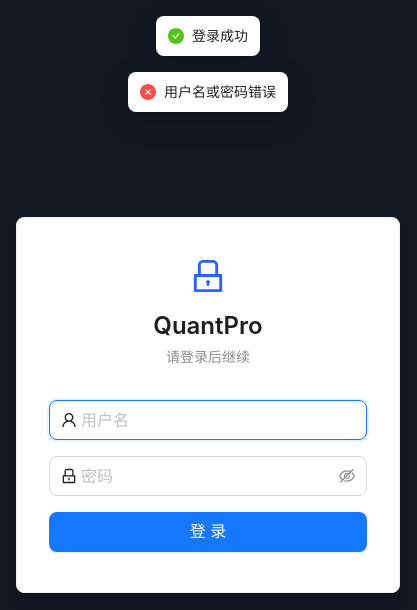
Test: Login 页 › 账号被禁用：提示「账号已被禁用，请联系管理员」
Check: the button with test id "login-submit" is shown, box [49,512,367,552]
In the field with test id "login-username": (218, 420) [81,408,355,432], type "bob"
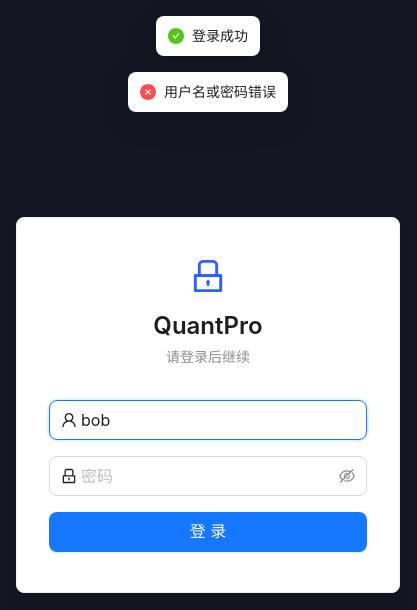
In the password field with test id "login-password": (208, 476) [81,464,335,488], type "secret-pwd"
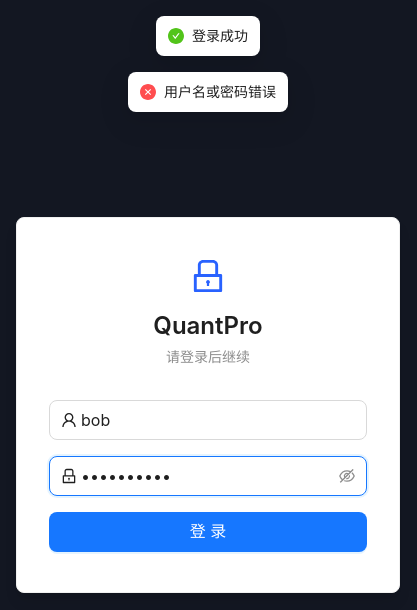
Click the button with test id "login-submit": (208, 532) [49,512,367,552]
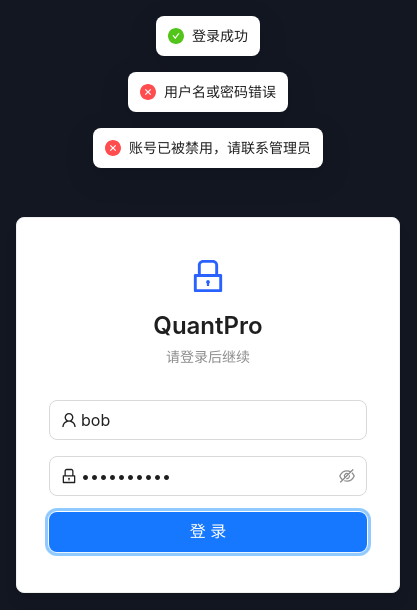
Check: the text "账号已被禁用，请联系管理员" is shown, box [129,137,311,159]
